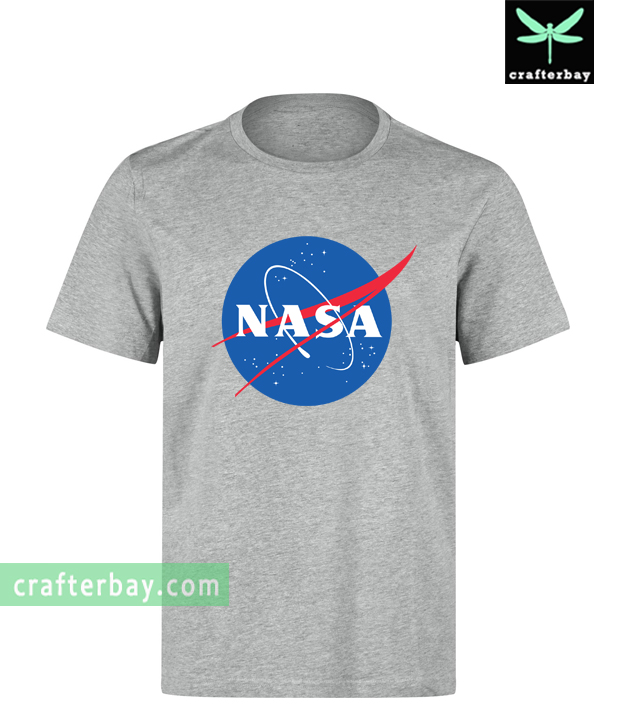NASA: (203, 234, 417, 406)
